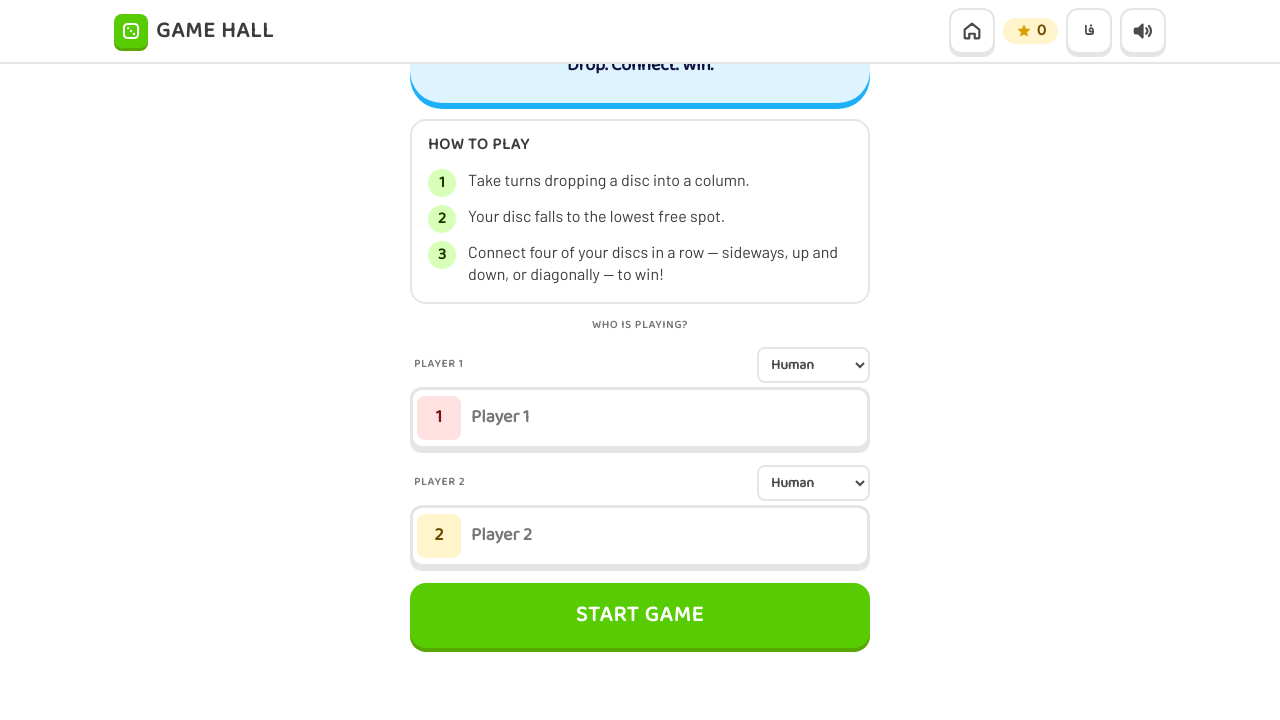
Test: Connect Four — two players › plays with the 1–7 keys
The width and height of the screenshot is (1280, 720).
(page scrolled)
Click the button "Start game" at point(640, 615), box [410,583,870,648]
(page scrolled)
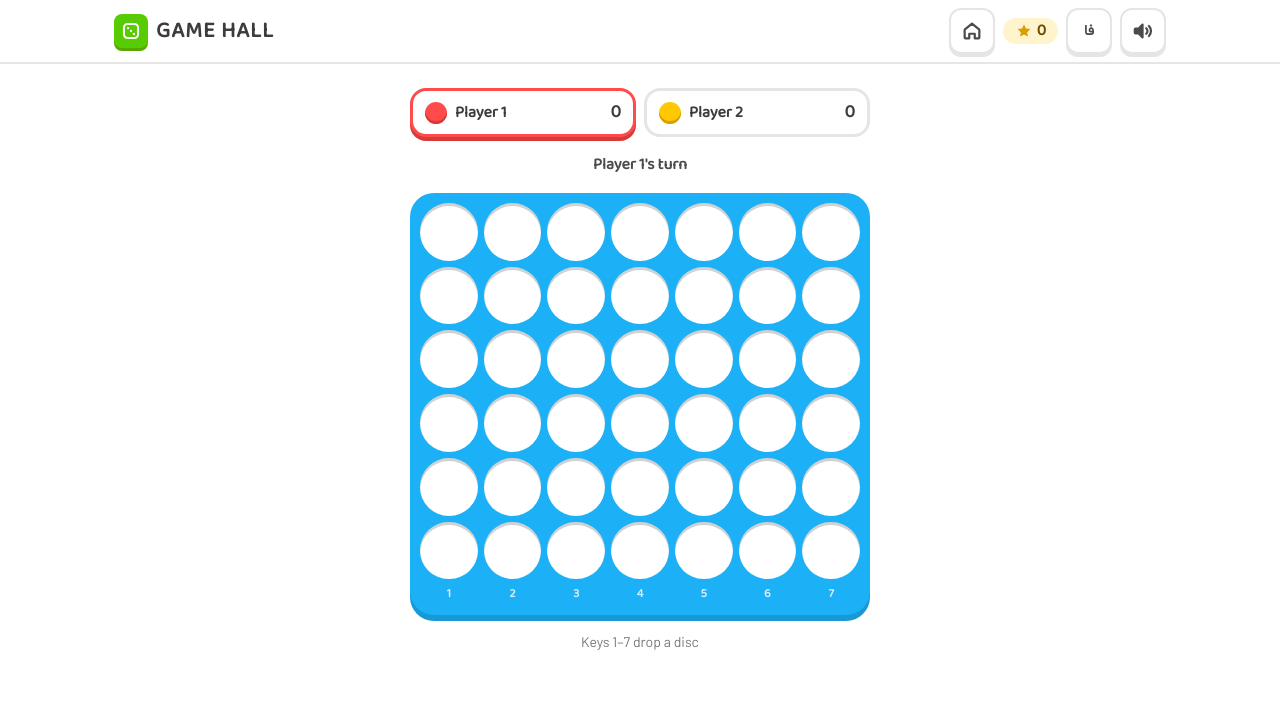
Press 4
Wait 470 ms
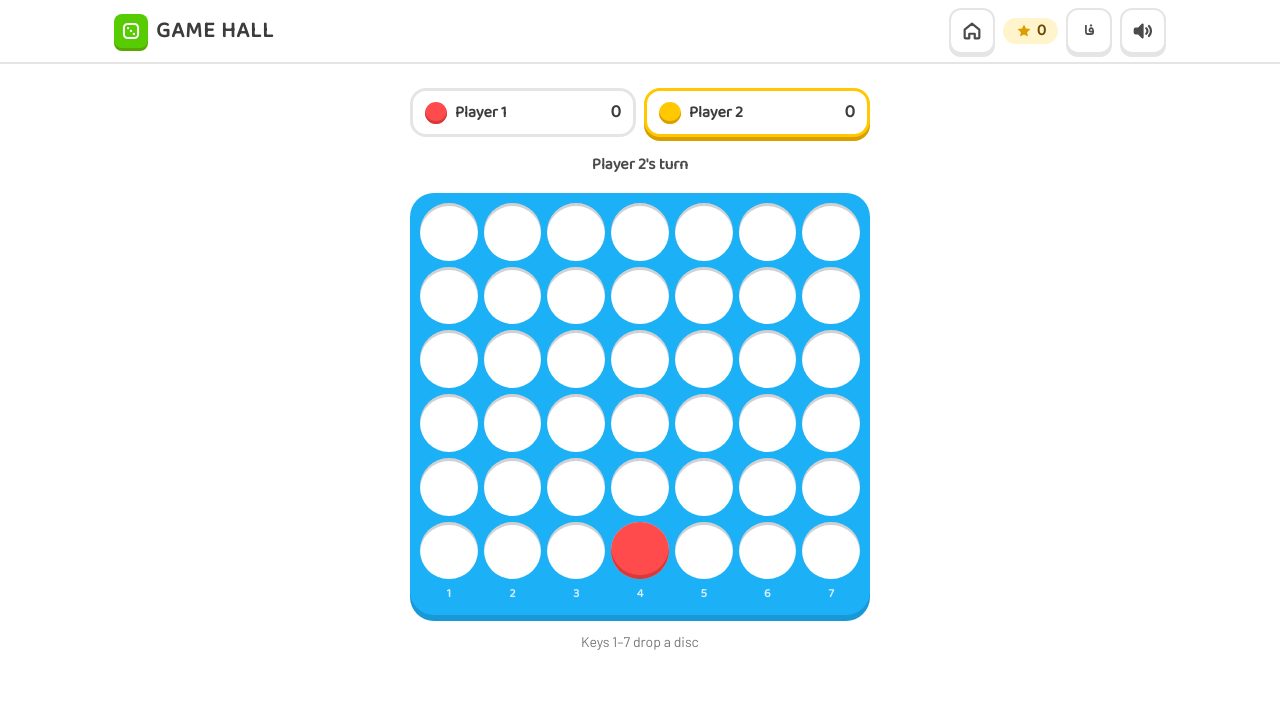
Check: the number of elements with class "c4-disc" is 1, box [611,522,669,579]
Press ٤
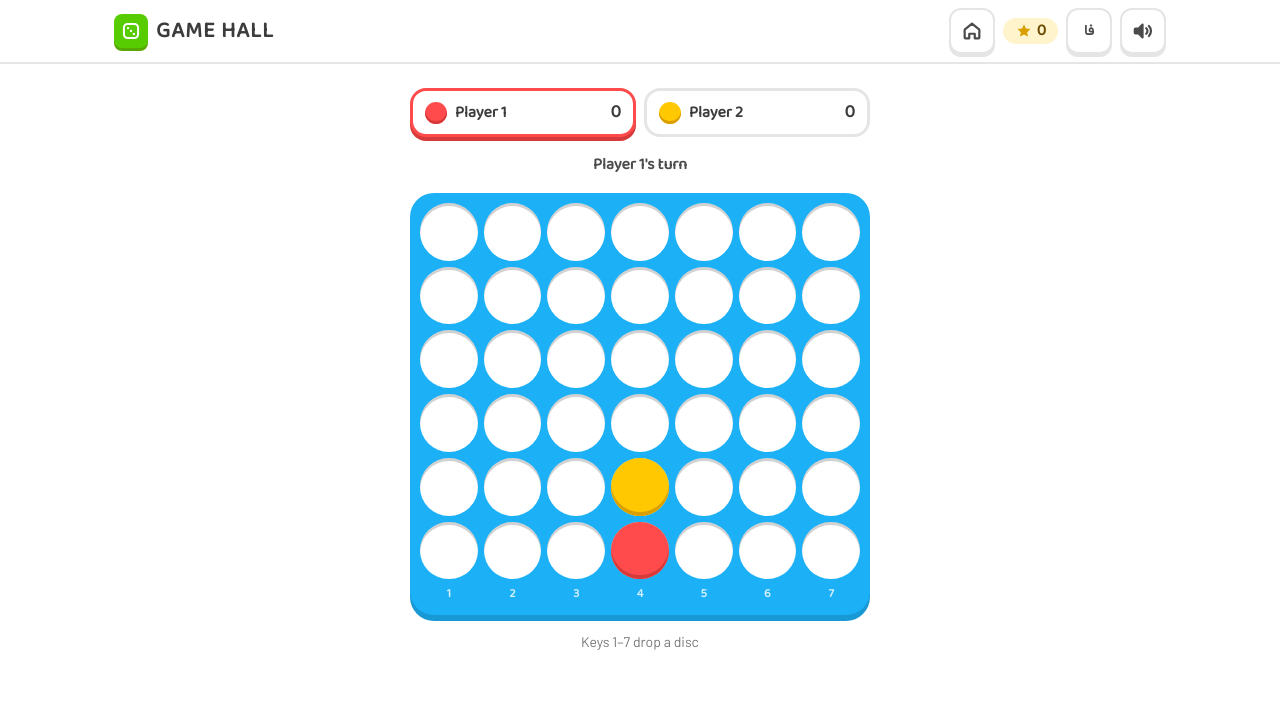
Check: the number of elements with class "c4-disc" is 2, box [611,458,669,516]; [611,522,669,579]
